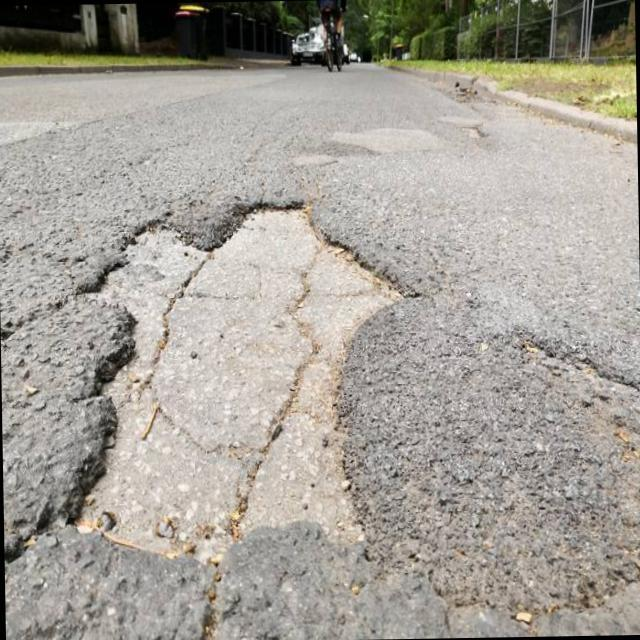Pothole: (43, 139, 440, 601)
